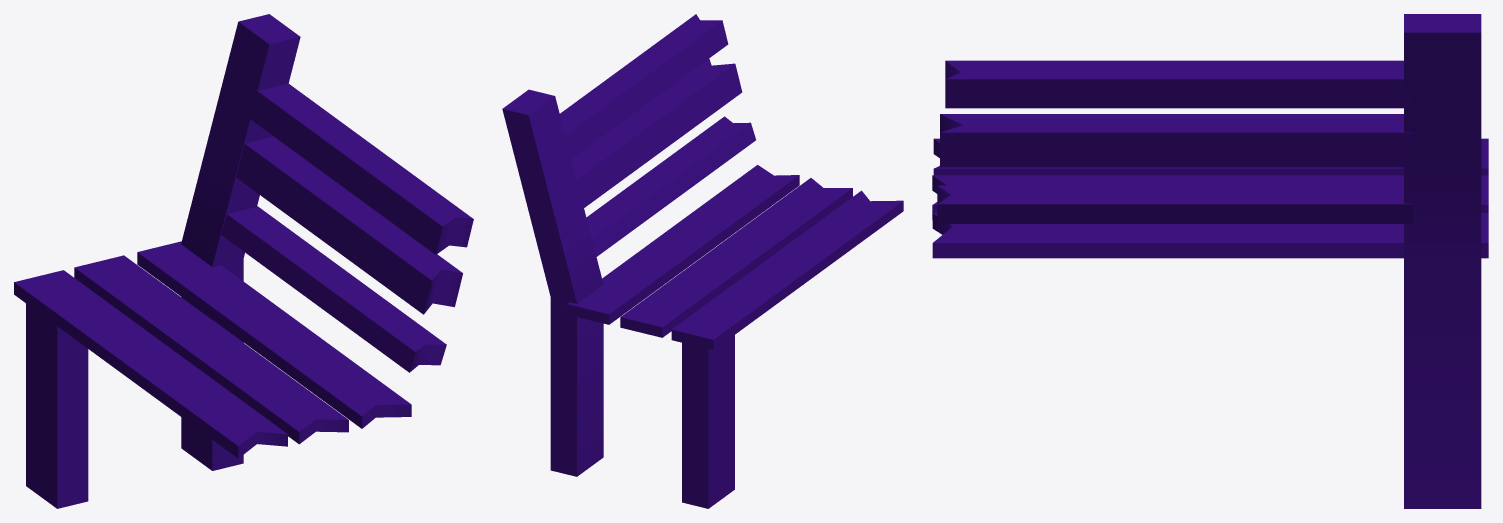
The model's file is Banco_reves.fbx.
3 renders of one model, left to right at view 1: azimuth 30°, elevation 25°; view 2: azimuth 150°, elevation 25°; view 3: azimuth 270°, elevation 25°, orthographic. The views are drawn at different scales.
Visible parts, largest first — view 1: Box008; view 2: Box008; view 3: Box008.
Boxes of the visible parts, left/top/right/bottom form: Box008: left=14, top=14, right=473, bottom=508; Box008: left=502, top=14, right=903, bottom=508; Box008: left=932, top=14, right=1488, bottom=508.
Bounding box in the file's own units: 64.18 × 100 × 99.06.
